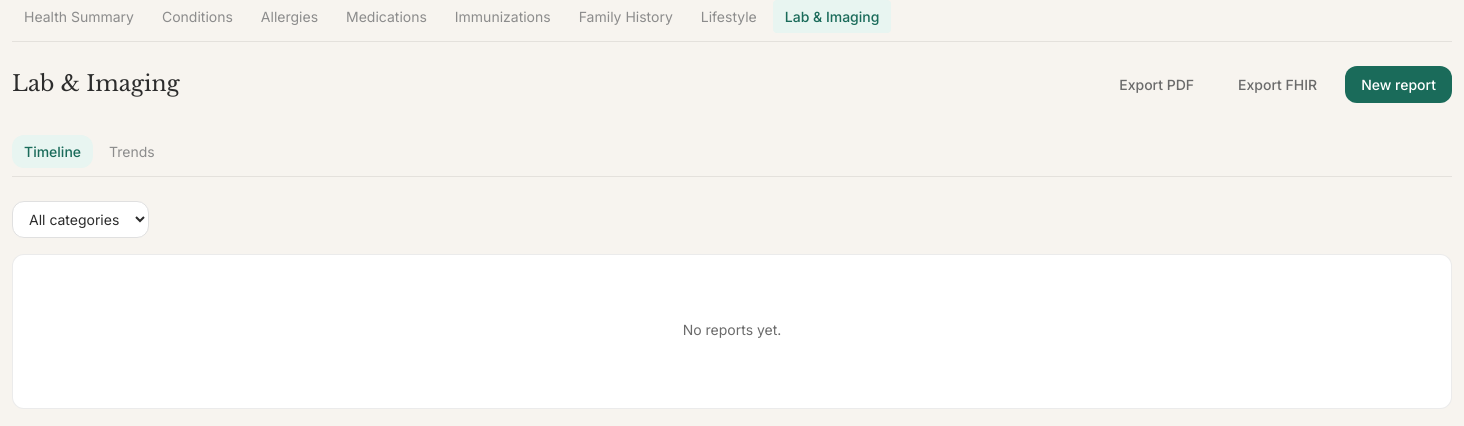
Test: LabReportsPage › shows error when export fails
Expected: the text "No reports yet." is shown, [683,321,781,338]
Click the button "Export PDF".
click(1157, 84)  # box [1103,66,1210,103]
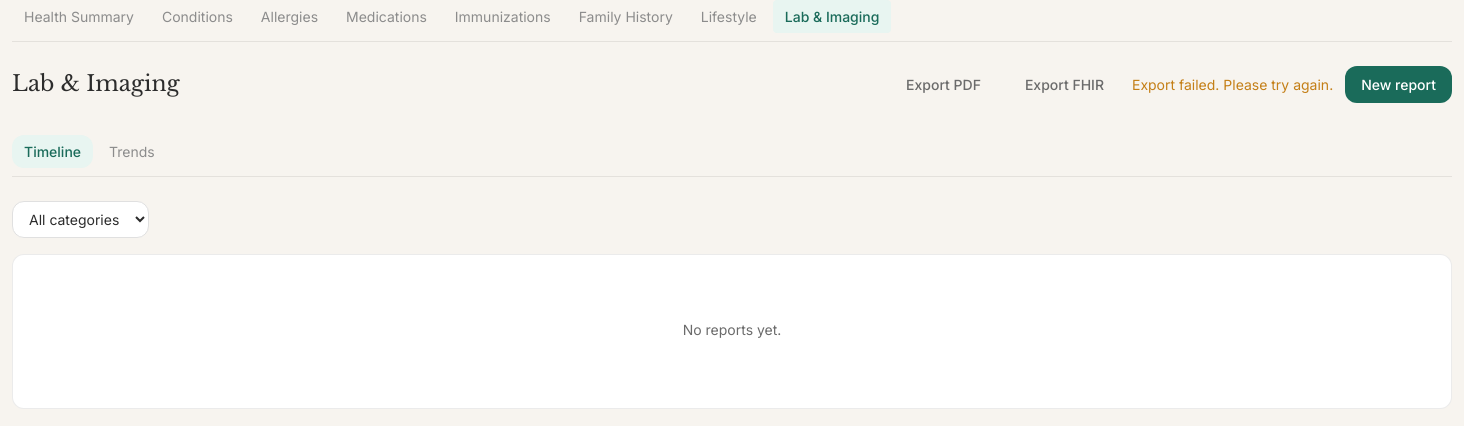
Expected: the message reads "Export failed. Please try again.", [1132,76,1333,92]
